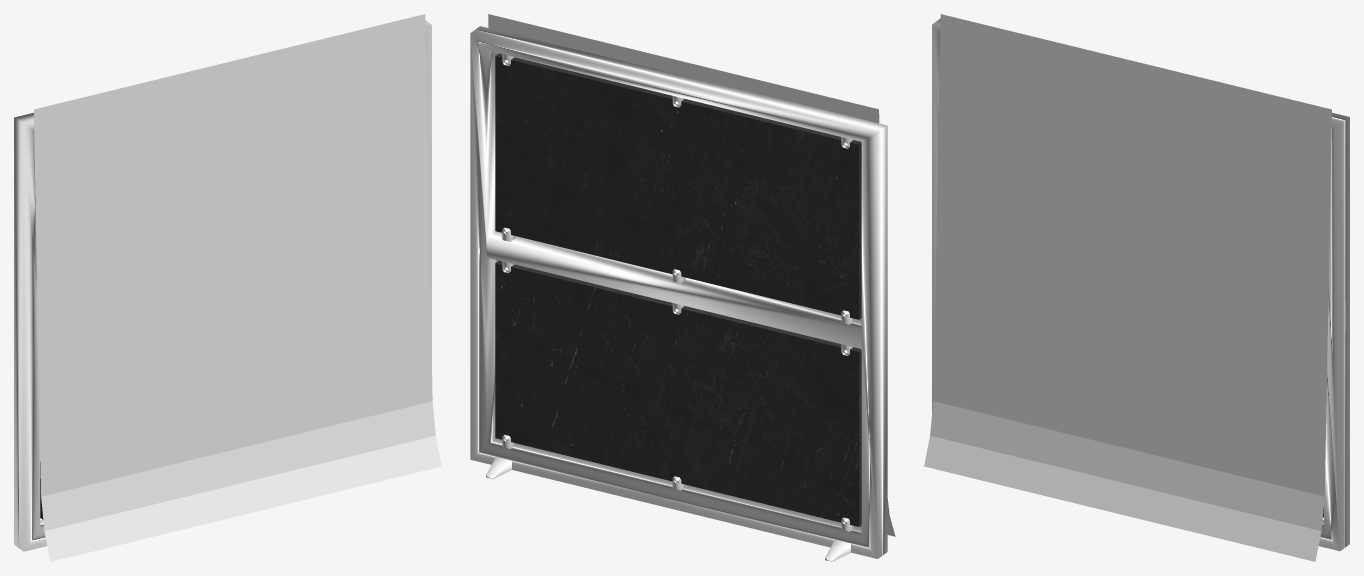
The model's file is glasstrennwand.fbx.
3 views of the same model, side by side, from view 1: azimuth 30°, elevation 25°; view 2: azimuth 150°, elevation 25°; view 3: azimuth 330°, elevation 25° (orthographic).
Visible parts, largest first — view 1: vorhang, glasstrennwand; view 2: glasstrennwand, vorhang; view 3: vorhang, glasstrennwand.
Part boxes in pixels (x1=…): vorhang: x1=34, y1=14, x2=441, y2=561; glasstrennwand: x1=14, y1=20, x2=431, y2=551; glasstrennwand: x1=470, y1=26, x2=887, y2=561; vorhang: x1=488, y1=14, x2=895, y2=536; vorhang: x1=924, y1=14, x2=1331, y2=561; glasstrennwand: x1=932, y1=18, x2=1349, y2=551.
Bounding box in the file's own units: 200 × 206 × 35.11.
